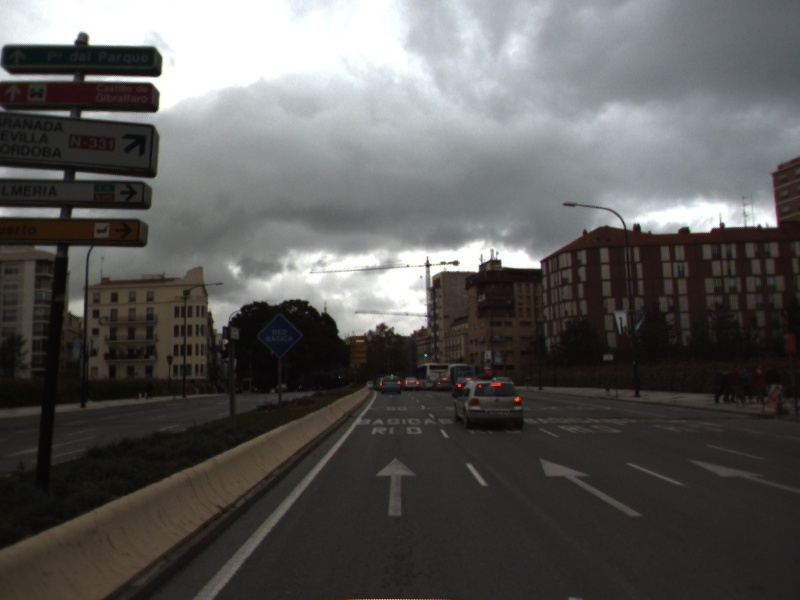STRAIGHT: (537, 456, 646, 519), (687, 457, 800, 493), (373, 455, 421, 519)
